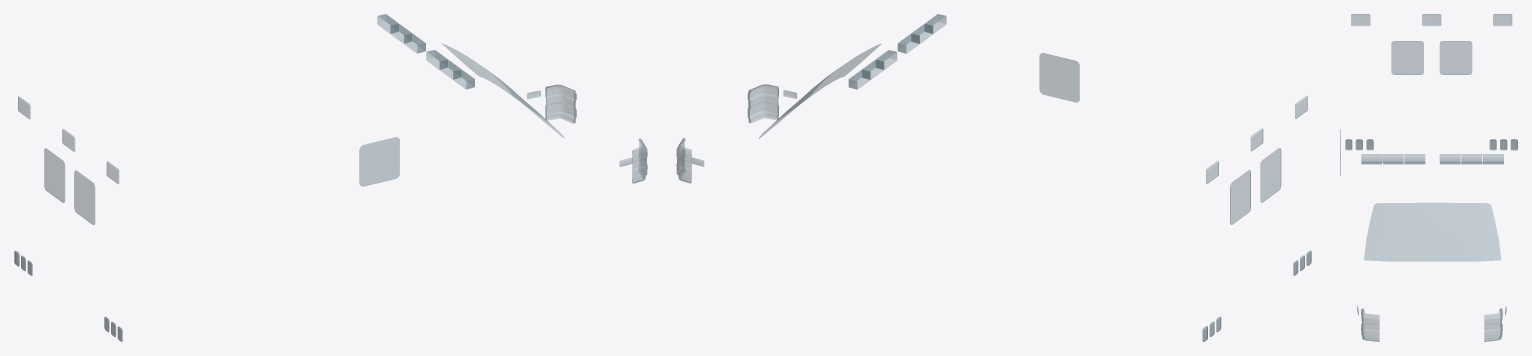
The picture shows the model from 3 angles, left to right: view 1: azimuth 30°, elevation 25°; view 2: azimuth 150°, elevation 25°; view 3: azimuth 270°, elevation 25°; orthographic projection. The views are drawn at different scales.
Visible parts, largest first — view 1: SM_Ambulance_Glass_Int1; view 2: SM_Ambulance_Glass_Int1; view 3: SM_Ambulance_Glass_Int1.
Part boxes in pixels (x1=…): SM_Ambulance_Glass_Int1: x1=14, y1=14, x2=647, y2=341; SM_Ambulance_Glass_Int1: x1=676, y1=14, x2=1311, y2=341; SM_Ambulance_Glass_Int1: x1=1340, y1=14, x2=1517, y2=341.
Size of the model in its own units: 5.99 by 1.8 by 2.13.
